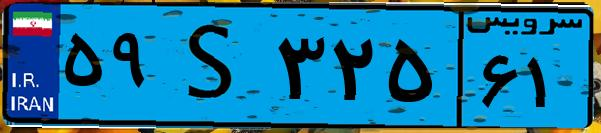1: (525, 38, 570, 115)
2: (330, 28, 385, 110)
3: (270, 28, 330, 110)
5: (385, 28, 445, 110), (57, 26, 110, 100)
6: (475, 38, 525, 113)
9: (110, 28, 158, 98)
S: (158, 12, 270, 120)
